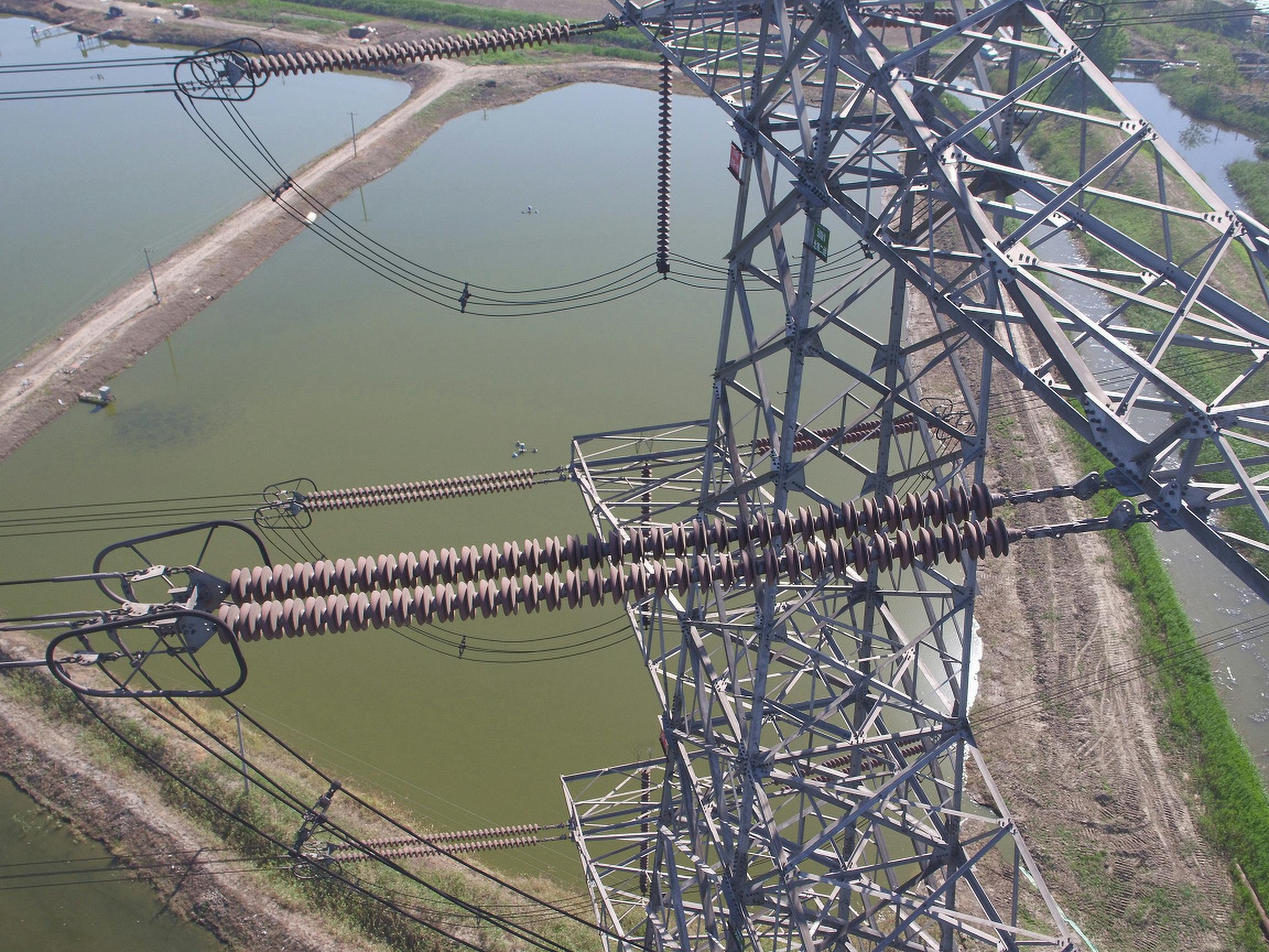insulator: (212, 478, 1013, 650), (241, 15, 572, 80), (300, 466, 536, 515), (332, 821, 540, 866), (773, 735, 925, 795), (748, 412, 921, 459), (654, 18, 675, 259), (863, 4, 958, 33), (638, 461, 654, 621), (638, 768, 653, 892)
